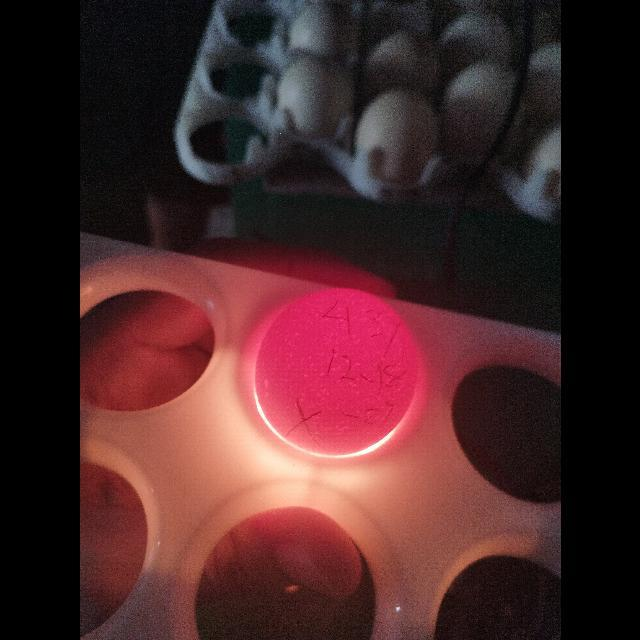Infertile: (252, 284, 422, 460)
